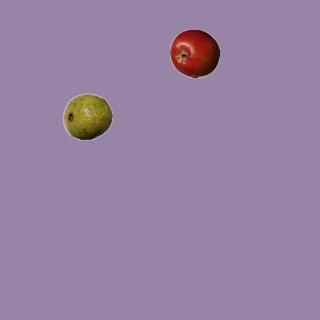Apple Braeburn: (169, 28, 219, 78)
Guava: (62, 91, 112, 141)
